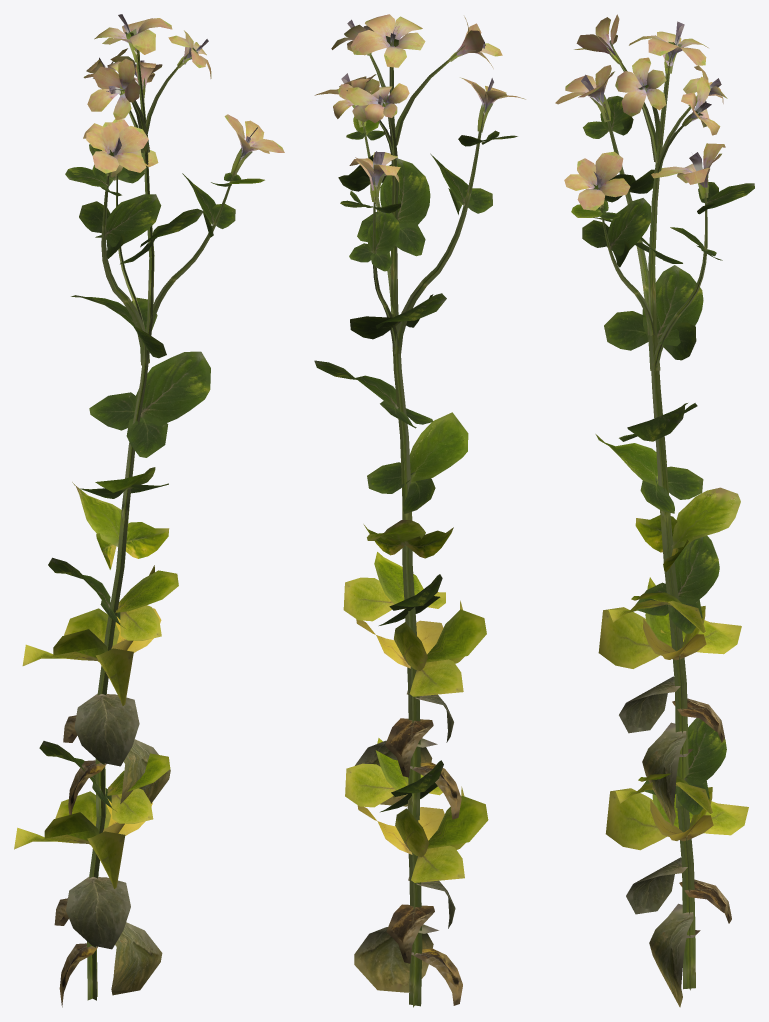
Rendered from Periwinkle_bush_long_yellowgreen.glb.
3 views of the same model, side by side, from view 1: azimuth 30°, elevation 25°; view 2: azimuth 150°, elevation 25°; view 3: azimuth 270°, elevation 25° (orthographic).
Parts seen in each view (by area): view 1: _b868_Var1_LOD1.2; view 2: _b868_Var1_LOD1.2; view 3: _b868_Var1_LOD1.2.
Part boxes in pixels (x1,y1,x2,y2): _b868_Var1_LOD1.2: [14, 14, 284, 1007]; _b868_Var1_LOD1.2: [314, 14, 525, 1007]; _b868_Var1_LOD1.2: [555, 14, 754, 1007].
Size of the model in its own units: 0.7607 by 3.45 by 0.6398.
Materials: 1 (1 with a texture image).
